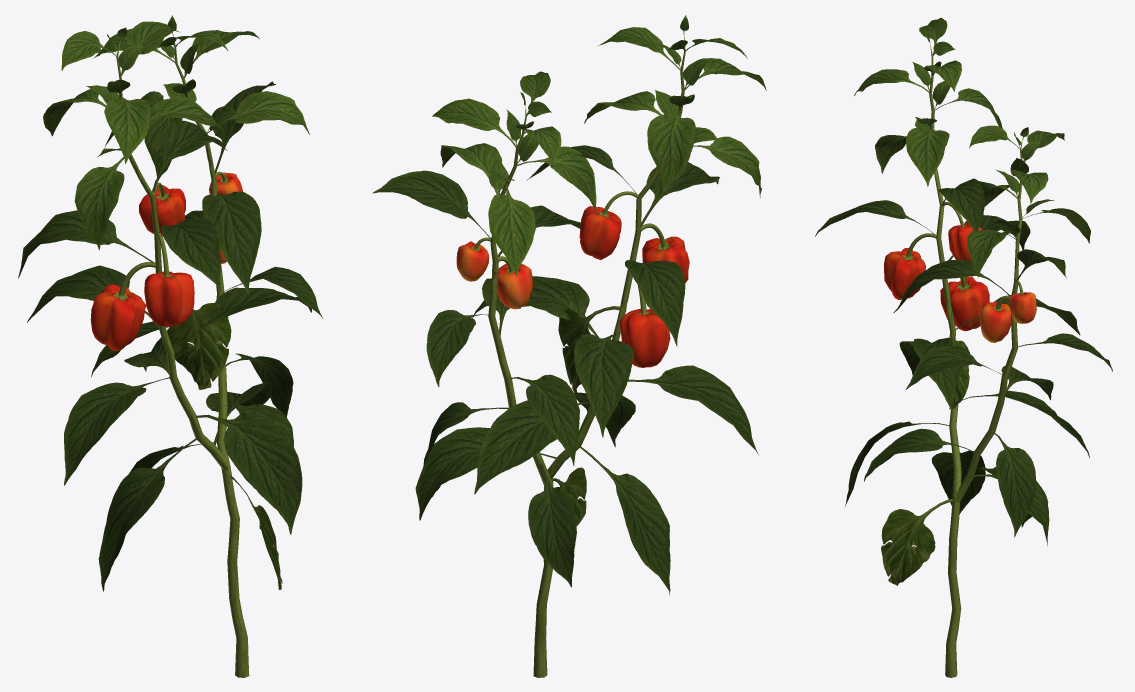
3 renders of one model, left to right at view 1: azimuth 30°, elevation 25°; view 2: azimuth 150°, elevation 25°; view 3: azimuth 270°, elevation 25°, orthographic. The views are drawn at different scales.
Visible parts, largest first — view 1: VG07_5; view 2: VG07_5; view 3: VG07_5.
Part boxes in pixels (x1=…): VG07_5: x1=18, y1=15, x2=323, y2=677; VG07_5: x1=373, y1=15, x2=766, y2=677; VG07_5: x1=815, y1=18, x2=1112, y2=677.
Size of the model in its own units: 0.5297 by 1.1 by 0.5252.
6 materials, 6 textured.
